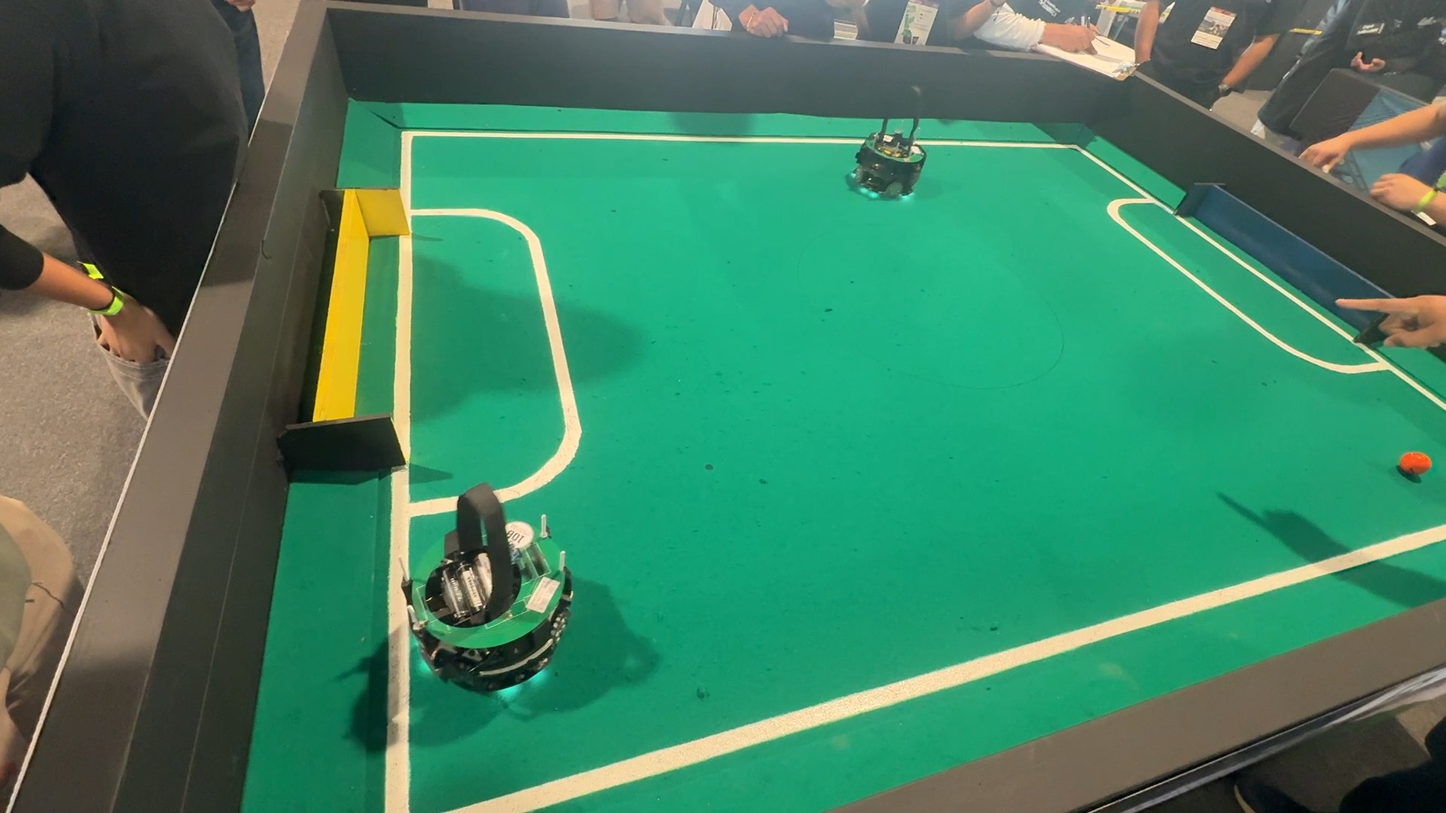Robot: (385, 497, 610, 718), (830, 124, 937, 218)
pelota: (1398, 451, 1436, 479)
